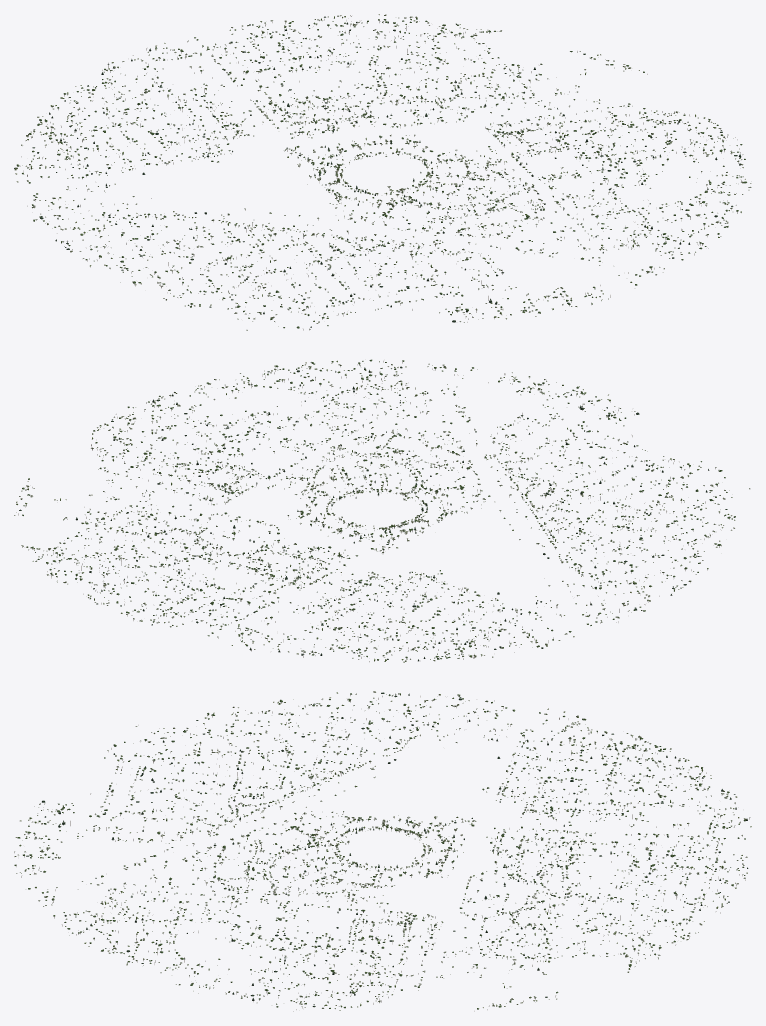
File: waverley_park_backdrop_part2.glb
The picture shows the model from 3 angles, top to bottom: view 1: azimuth 30°, elevation 25°; view 2: azimuth 150°, elevation 25°; view 3: azimuth 270°, elevation 25°; orthographic projection. The views are drawn at different scales.
Parts seen in each view (by area): view 1: bg_trees_joined_s14, bg_trees_joined_s13, bg_trees_joined_s11, bg_trees_joined_s08, bg_trees_joined_s10, bg_trees_joined_s09, bg_trees_joined_s15, bg_trees_joined_s12, bg_trees_joined_s02, bg_trees_joined_s01, bg_trees_joined_s03, bg_trees_joined_s05 (+1 smaller); view 2: bg_trees_joined_s14, bg_trees_joined_s13, bg_trees_joined_s11, bg_trees_joined_s08, bg_trees_joined_s10, bg_trees_joined_s09, bg_trees_joined_s15, bg_trees_joined_s12, bg_trees_joined_s02, bg_trees_joined_s03, bg_trees_joined_s01, bg_trees_joined_s05 (+1 smaller); view 3: bg_trees_joined_s14, bg_trees_joined_s13, bg_trees_joined_s11, bg_trees_joined_s08, bg_trees_joined_s10, bg_trees_joined_s09, bg_trees_joined_s15, bg_trees_joined_s12, bg_trees_joined_s02, bg_trees_joined_s03, bg_trees_joined_s01, bg_trees_joined_s05 (+1 smaller).
Part boxes in pixels (x1,y1,x2,y2): bg_trees_joined_s14: [31, 37, 289, 150]; bg_trees_joined_s13: [215, 14, 470, 111]; bg_trees_joined_s11: [537, 111, 751, 213]; bg_trees_joined_s08: [66, 213, 336, 330]; bg_trees_joined_s10: [470, 193, 728, 306]; bg_trees_joined_s09: [296, 234, 565, 330]; bg_trees_joined_s15: [14, 133, 214, 247]; bg_trees_joined_s12: [432, 29, 662, 135]; bg_trees_joined_s02: [407, 176, 541, 230]; bg_trees_joined_s01: [341, 186, 463, 246]; bg_trees_joined_s03: [420, 141, 554, 188]; bg_trees_joined_s05: [302, 103, 419, 157]; bg_trees_joined_s14: [207, 575, 463, 662]; bg_trees_joined_s13: [32, 536, 285, 627]; bg_trees_joined_s11: [91, 365, 330, 476]; bg_trees_joined_s08: [536, 477, 750, 585]; bg_trees_joined_s10: [288, 359, 549, 448]; bg_trees_joined_s09: [460, 382, 722, 494]; bg_trees_joined_s15: [421, 553, 683, 658]; bg_trees_joined_s12: [14, 454, 219, 552]; bg_trees_joined_s02: [337, 438, 453, 495]; bg_trees_joined_s03: [235, 440, 363, 500]; bg_trees_joined_s01: [399, 447, 533, 504]; bg_trees_joined_s05: [222, 514, 353, 572]; bg_trees_joined_s14: [511, 741, 751, 850]; bg_trees_joined_s13: [515, 843, 748, 959]; bg_trees_joined_s11: [126, 898, 384, 1011]; bg_trees_joined_s08: [124, 691, 384, 798]; bg_trees_joined_s10: [14, 847, 247, 956]; bg_trees_joined_s09: [14, 744, 254, 852]; bg_trees_joined_s15: [384, 693, 643, 792]; bg_trees_joined_s12: [384, 908, 639, 1011]; bg_trees_joined_s02: [214, 847, 350, 896]; bg_trees_joined_s03: [264, 861, 384, 927]; bg_trees_joined_s01: [211, 802, 349, 849]; bg_trees_joined_s05: [414, 847, 556, 901].
Size of the model in its own units: 2948 by 95.87 by 2982.
1 material, 1 textured.
